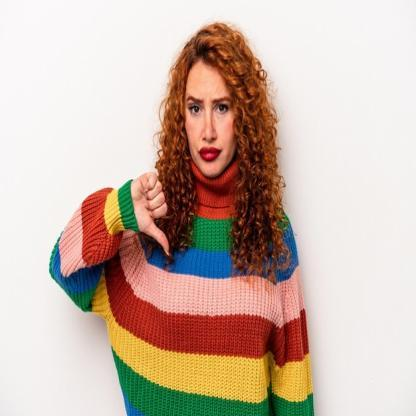thumb_down: (124, 168, 176, 260)
